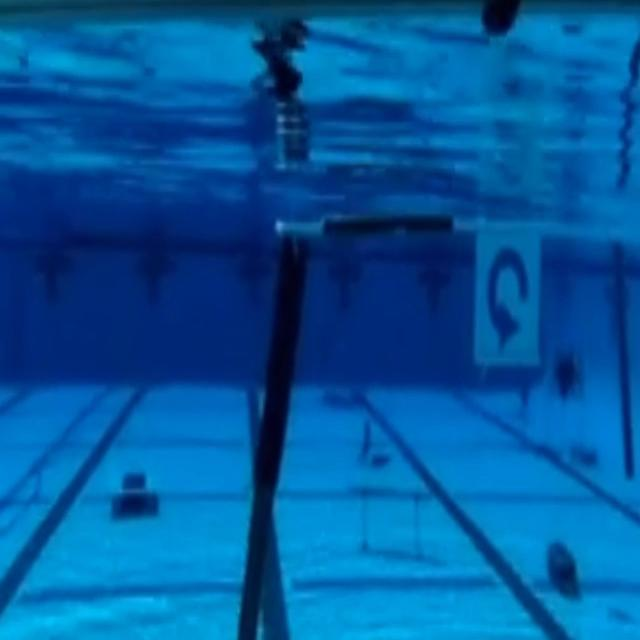Gate: (258, 210, 638, 628)
